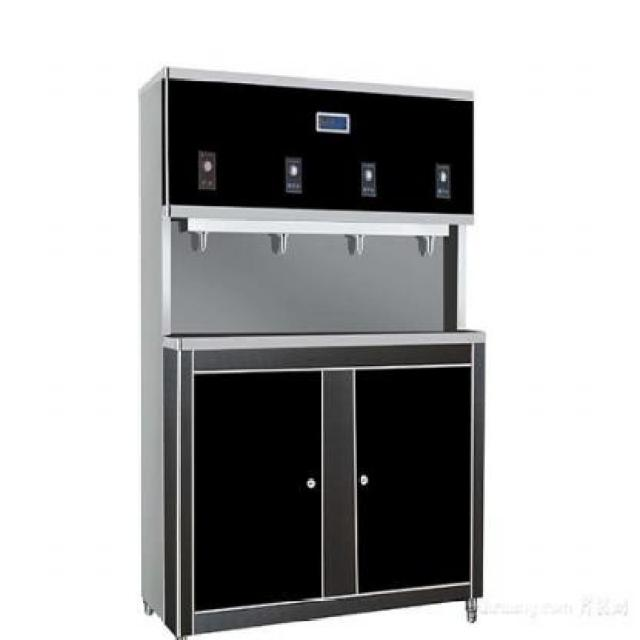cooler: (135, 64, 484, 640)
